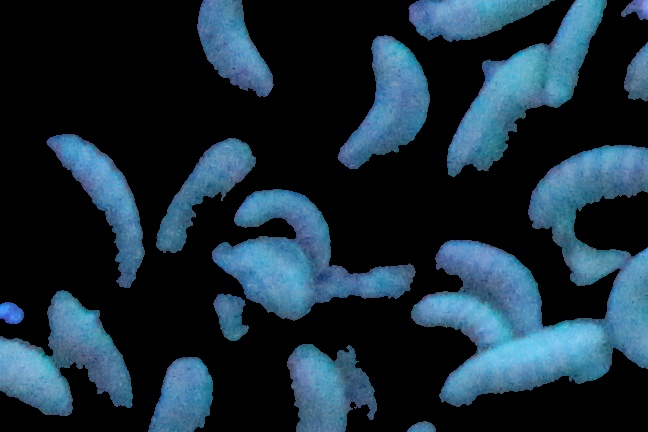larvae: (44, 134, 146, 286), (438, 321, 602, 414), (445, 47, 547, 174), (339, 35, 431, 168), (154, 137, 256, 253), (38, 291, 131, 412), (434, 240, 543, 339), (528, 147, 648, 231), (227, 191, 345, 269), (211, 239, 313, 321), (197, 1, 273, 100), (545, 1, 607, 109), (279, 345, 349, 432), (1, 338, 74, 417), (407, 1, 542, 39), (148, 358, 218, 430), (608, 247, 648, 368), (412, 290, 506, 339)
